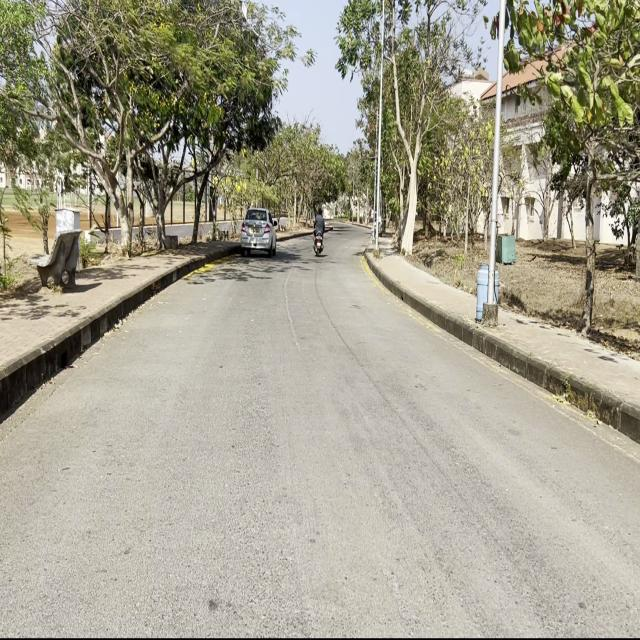Object: (240, 204, 279, 259), (313, 202, 323, 264)
Road: (4, 227, 630, 632)
